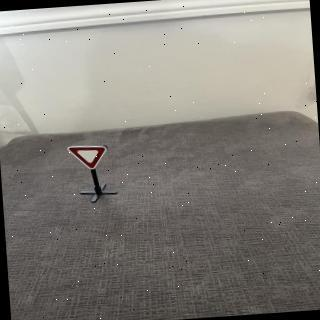sign_yield: (67, 143, 111, 173)
